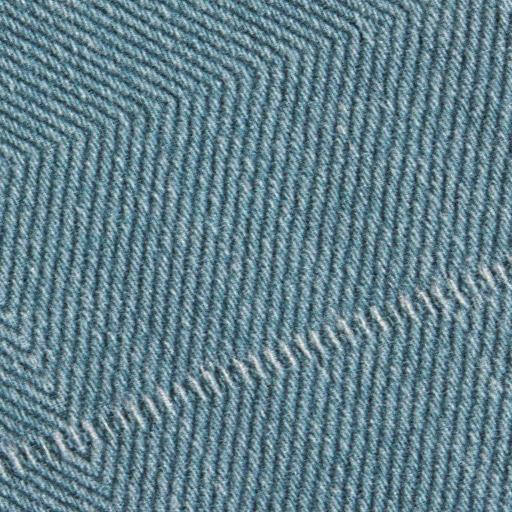slub: (1, 253, 512, 485)
